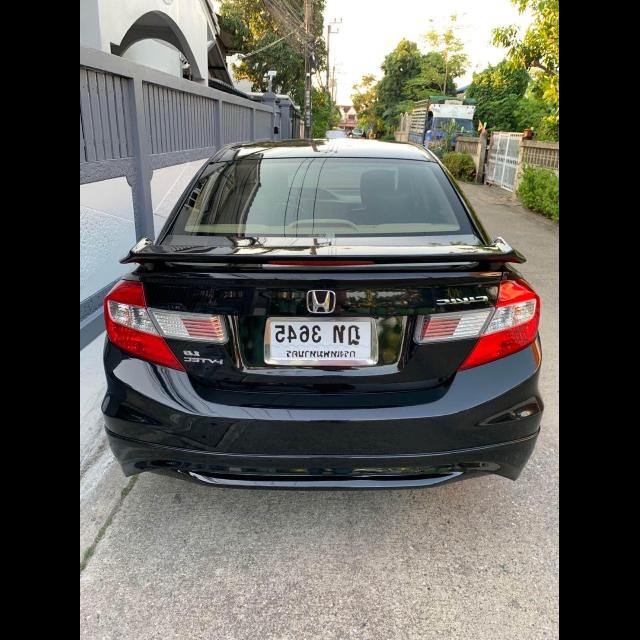cars: (91, 125, 554, 521)
